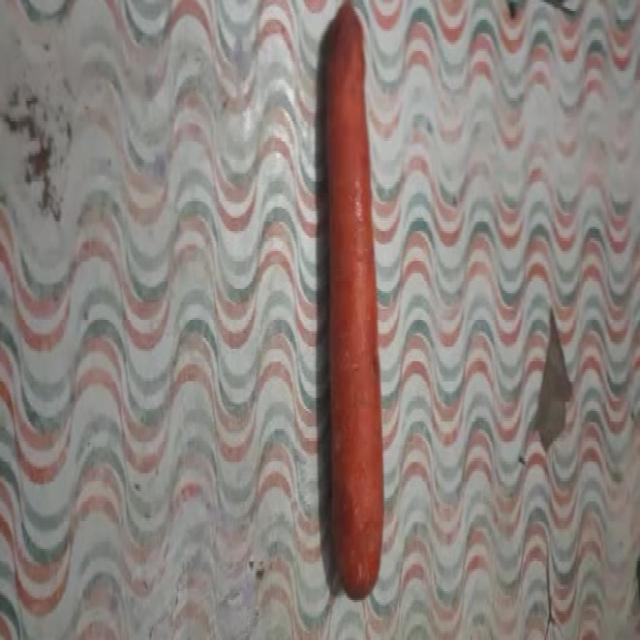carrot: (326, 6, 384, 598)
